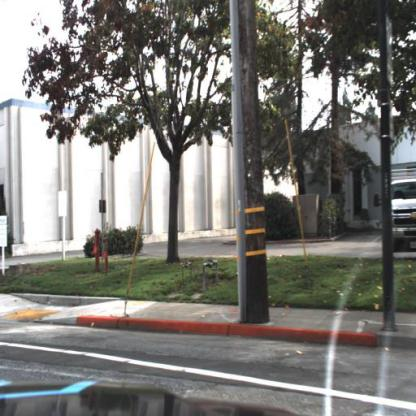truck: (373, 167, 415, 251)
